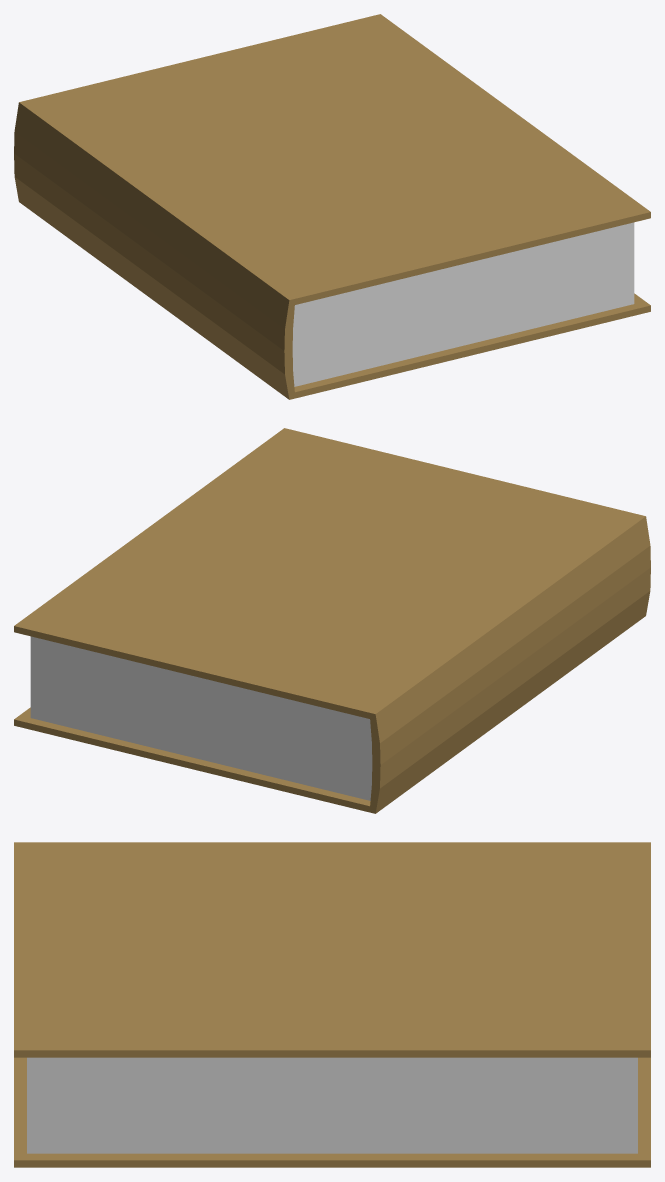
The model's file is book.fbx.
The picture shows the model from 3 angles, top to bottom: view 1: azimuth 30°, elevation 25°; view 2: azimuth 150°, elevation 25°; view 3: azimuth 270°, elevation 25°; orthographic projection. The views are drawn at different scales.
Visible parts, largest first — view 1: Cube.002; view 2: Cube.002; view 3: Cube.002.
Part boxes in pixels (x1,y1,x2,y2): Cube.002: (14, 14, 650, 399); Cube.002: (14, 428, 650, 813); Cube.002: (14, 842, 650, 1167).
Bounding box in the file's own units: 13.46 × 3.5 × 17.21.
